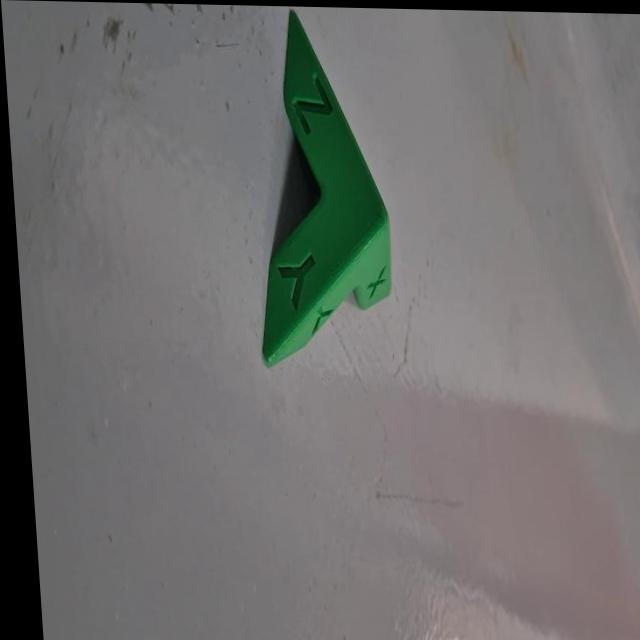eje: (232, 6, 403, 378)
